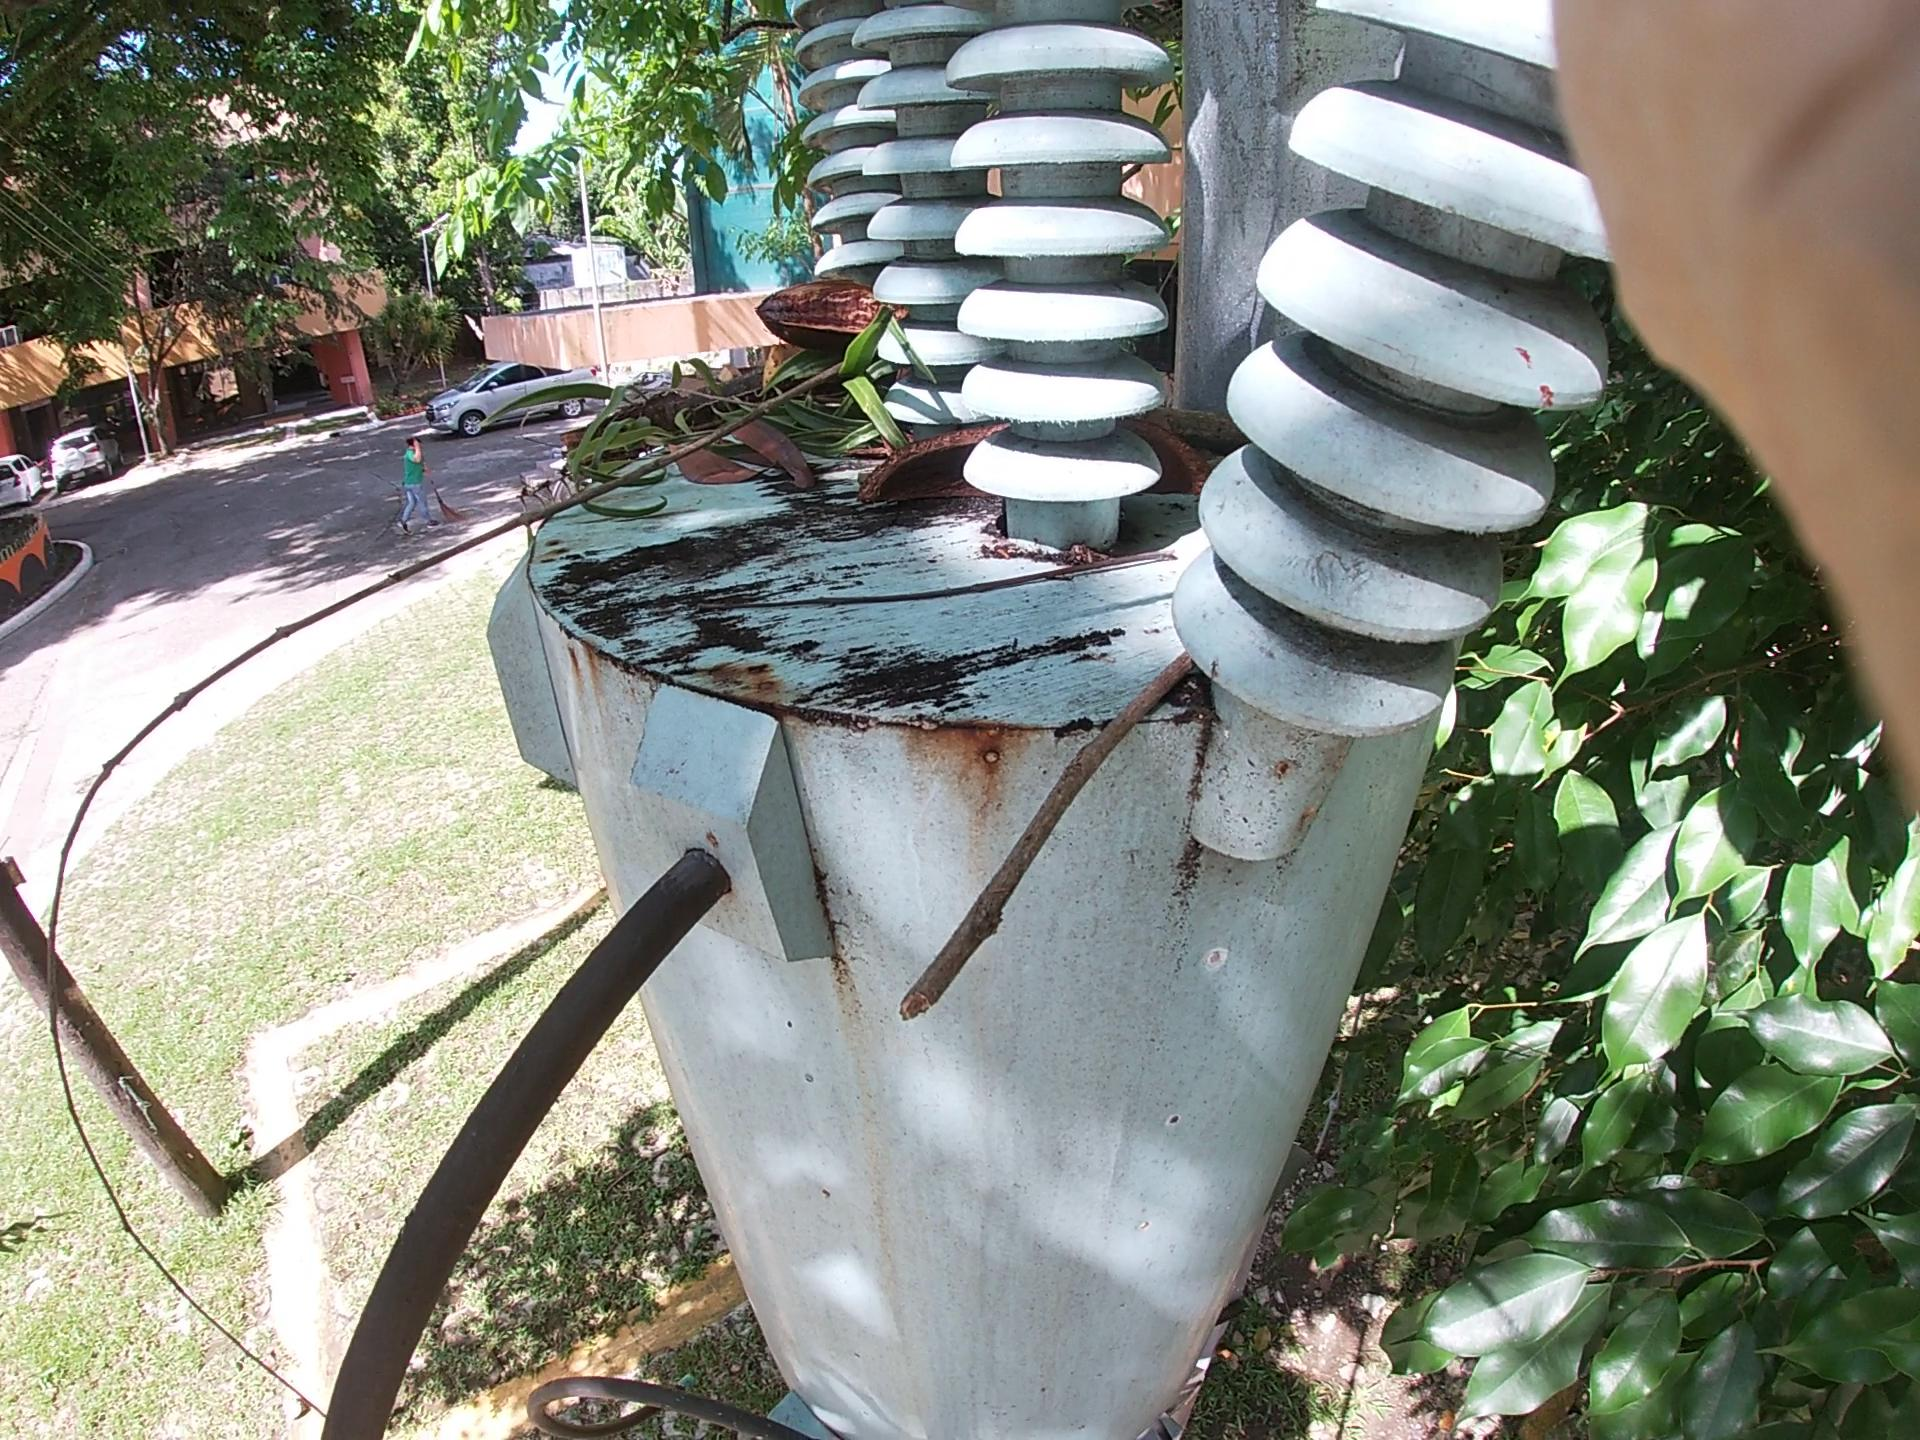branch with leaves: (513, 110, 1188, 520)
leaf: (632, 390, 890, 560)
mahogany fruit: (821, 404, 1281, 555), (714, 209, 1043, 369)
tree branch: (121, 195, 952, 1237), (877, 424, 1199, 1050)
